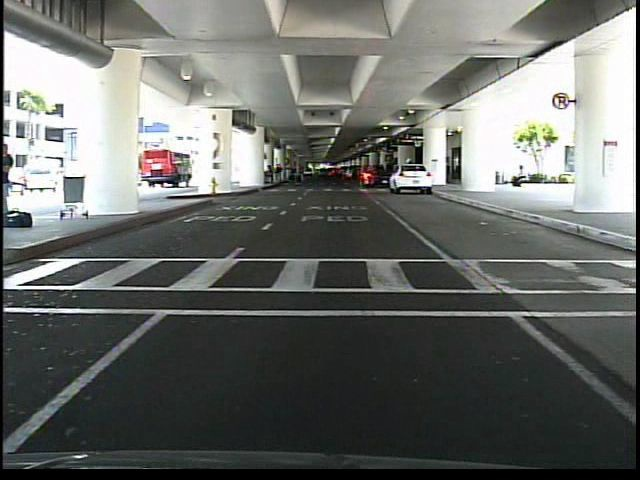person: (505, 161, 530, 193)
